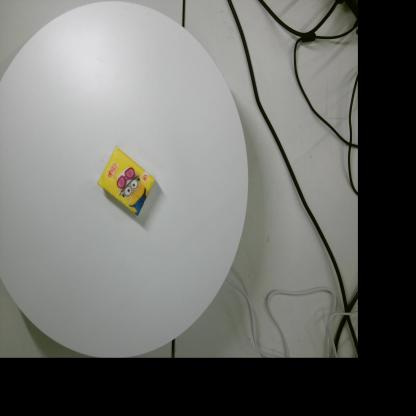Tissue: (97, 146, 156, 216)
